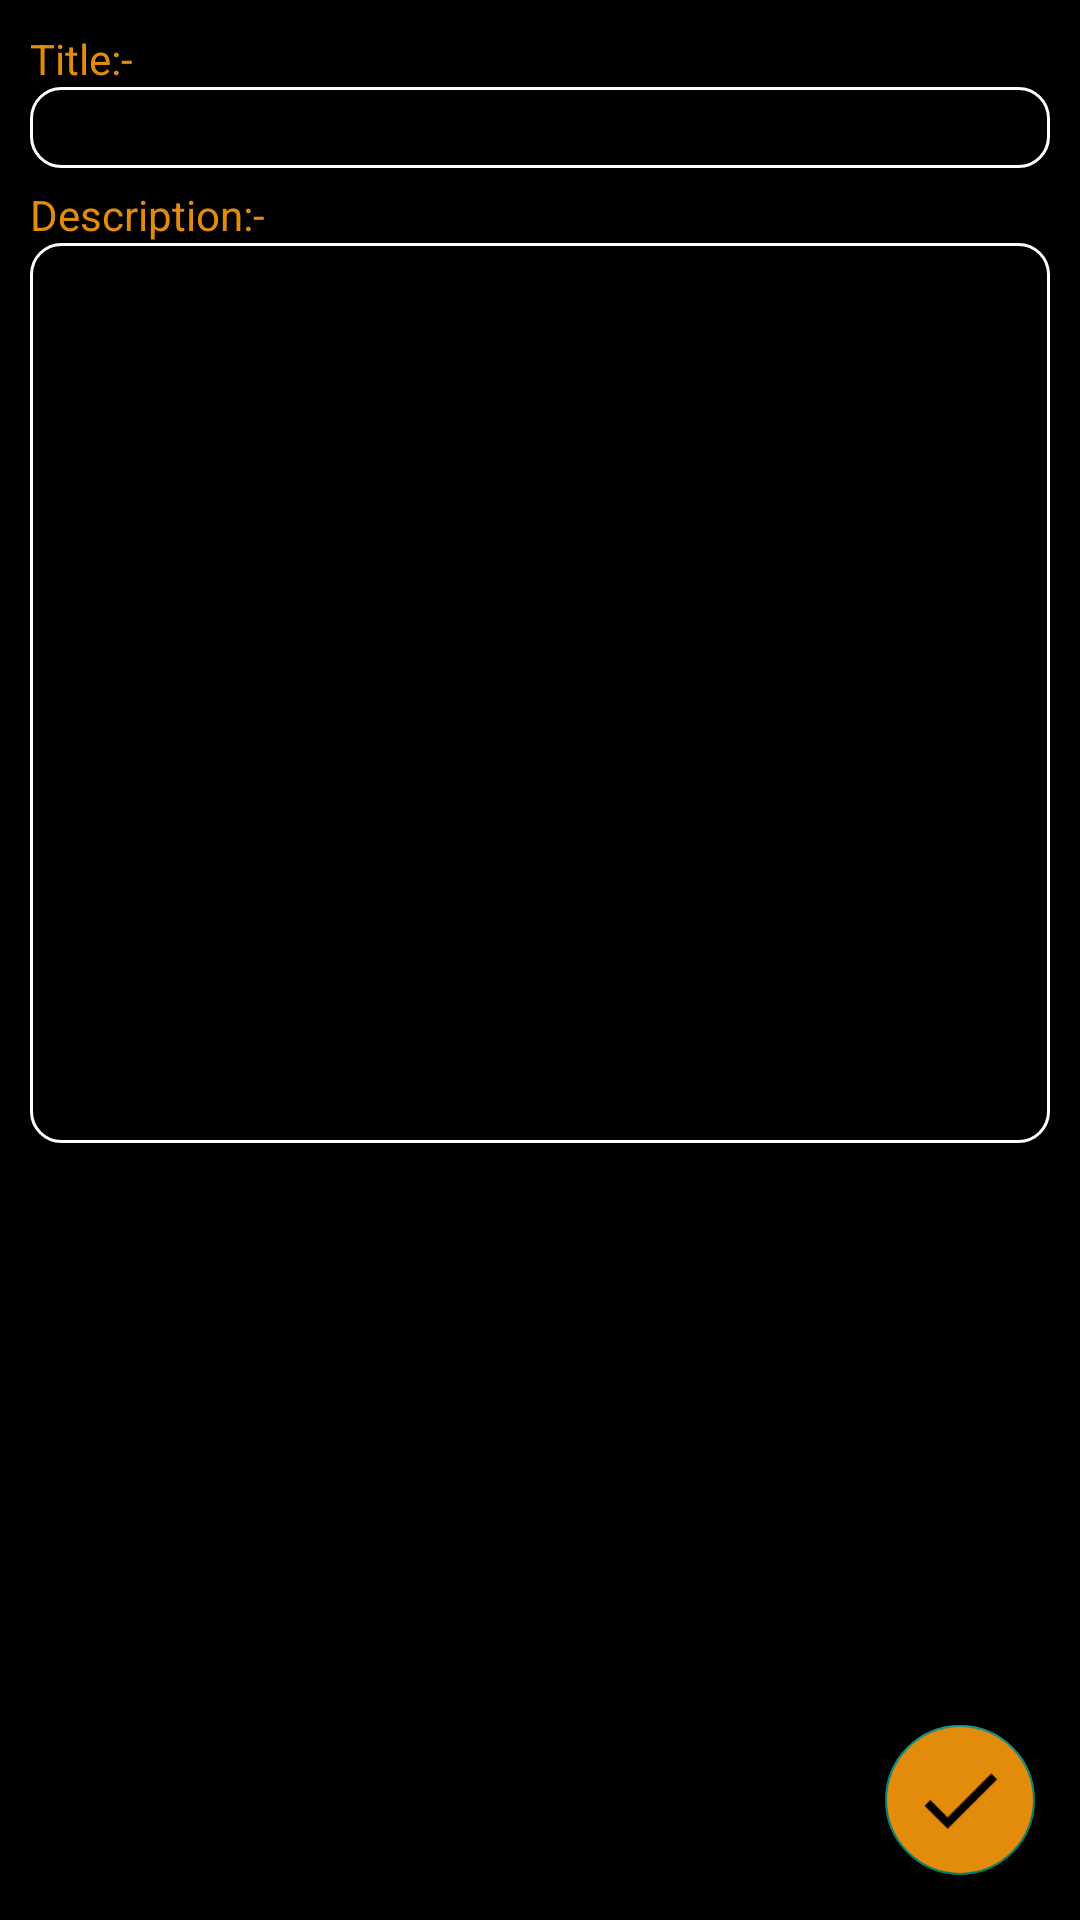

Icons on this 1080×1920 Android screen, each with the point to tap as (x,y):
done: (960,1800)
